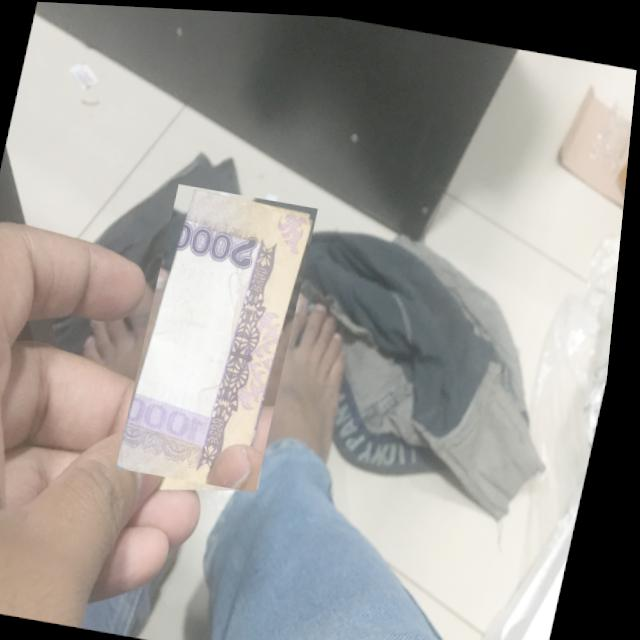Taka: (124, 181, 323, 491)
